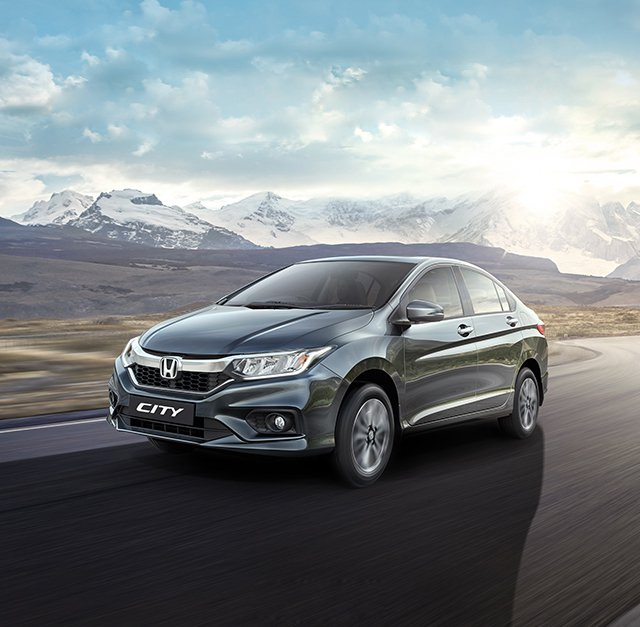car: (107, 245, 553, 476)
